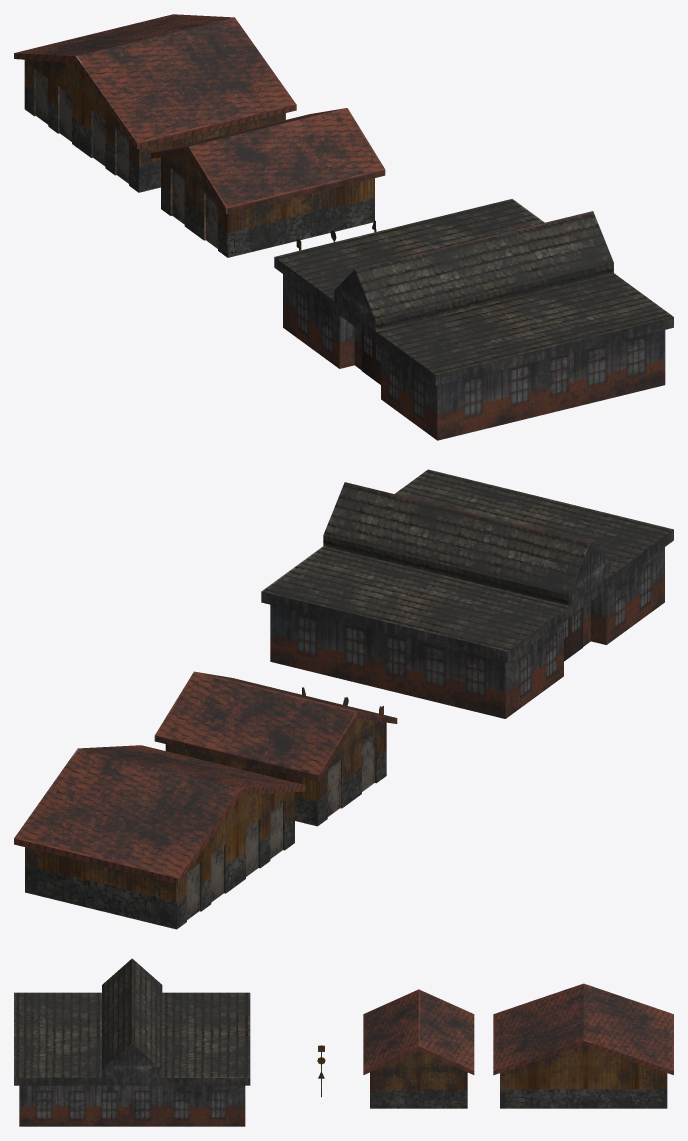
3 views of the same model, one above another, from view 1: azimuth 30°, elevation 25°; view 2: azimuth 150°, elevation 25°; view 3: azimuth 270°, elevation 25° (orthographic). The views are drawn at different scales.
Visible parts, largest first — view 1: Gift Shop, Restroom big, Restroom small; view 2: Gift Shop, Restroom big, Restroom small; view 3: Gift Shop, Restroom big, Restroom small.
Part boxes in pixels (bbox=[...]): Gift Shop: bbox=[274, 199, 673, 440]; Restroom big: bbox=[14, 14, 296, 192]; Restroom small: bbox=[150, 108, 385, 257]; Gift Shop: bbox=[261, 469, 673, 718]; Restroom big: bbox=[14, 745, 305, 929]; Restroom small: bbox=[154, 671, 397, 826]; Gift Shop: bbox=[14, 958, 250, 1126]; Restroom big: bbox=[493, 983, 673, 1108]; Restroom small: bbox=[363, 989, 474, 1108].
Bounding box in the file's own units: 1158 × 541 × 3796.
